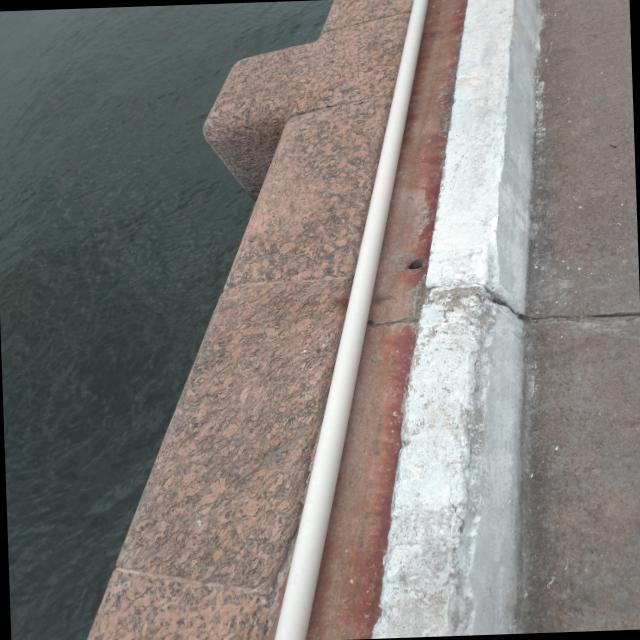gas: (269, 0, 431, 640)
